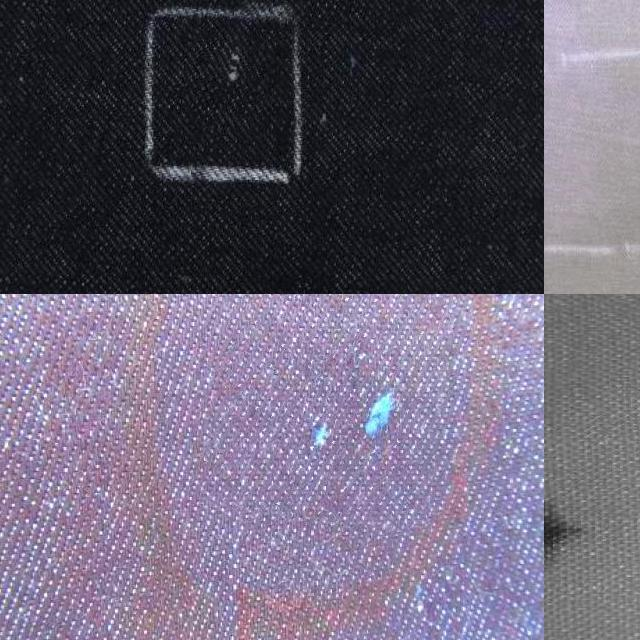Hole: (544, 485, 612, 591)
Thread_other: (207, 294, 450, 528), (544, 88, 640, 228), (182, 31, 274, 135)
